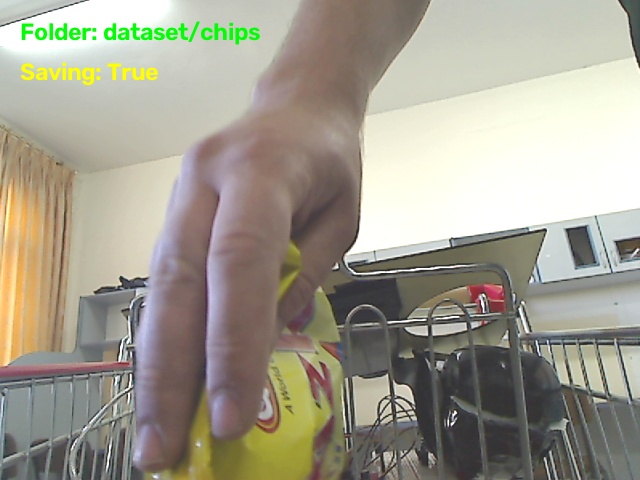chips: (146, 291, 344, 479)
